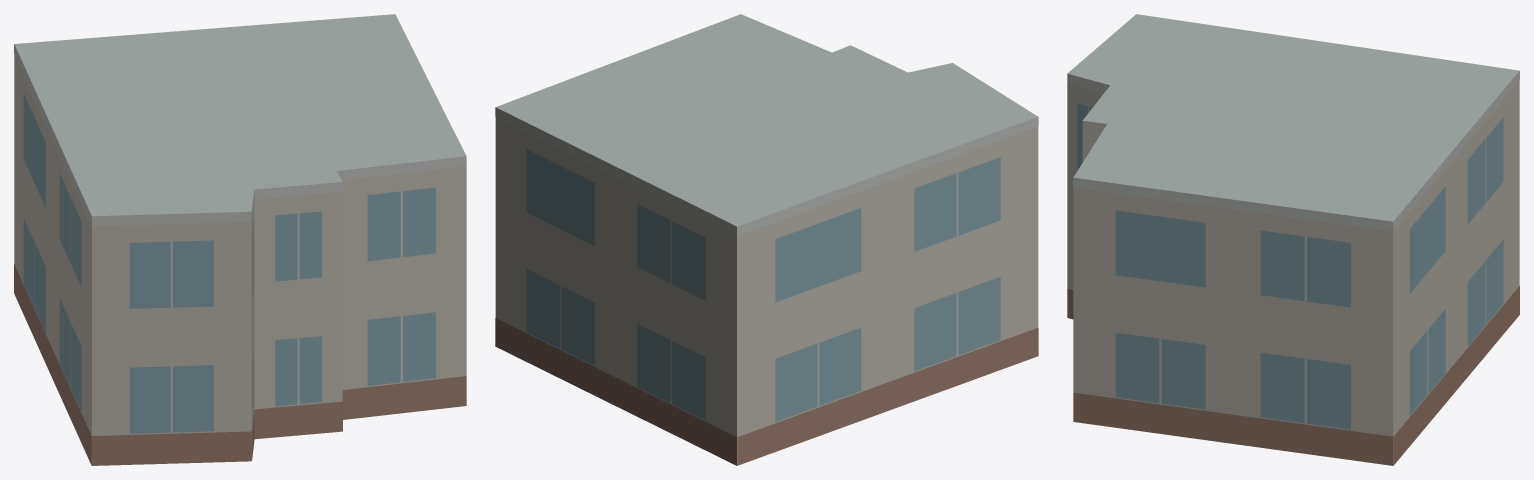
The model's file is survey-upis-32920523.glb.
3 views of the same model, side by side, from view 1: azimuth 30°, elevation 25°; view 2: azimuth 150°, elevation 25°; view 3: azimuth 270°, elevation 25° (orthographic). The views are drawn at different scales.
Parts seen in each view (by area): view 1: survey-upis-32920523.tmp; view 2: survey-upis-32920523.tmp; view 3: survey-upis-32920523.tmp.
Part boxes in pixels (x1=…): survey-upis-32920523.tmp: x1=14, y1=14, x2=466, y2=465; survey-upis-32920523.tmp: x1=495, y1=14, x2=1038, y2=465; survey-upis-32920523.tmp: x1=1067, y1=14, x2=1519, y2=465.
Size of the model in its own units: 11.13 by 6.1 by 10.25.
